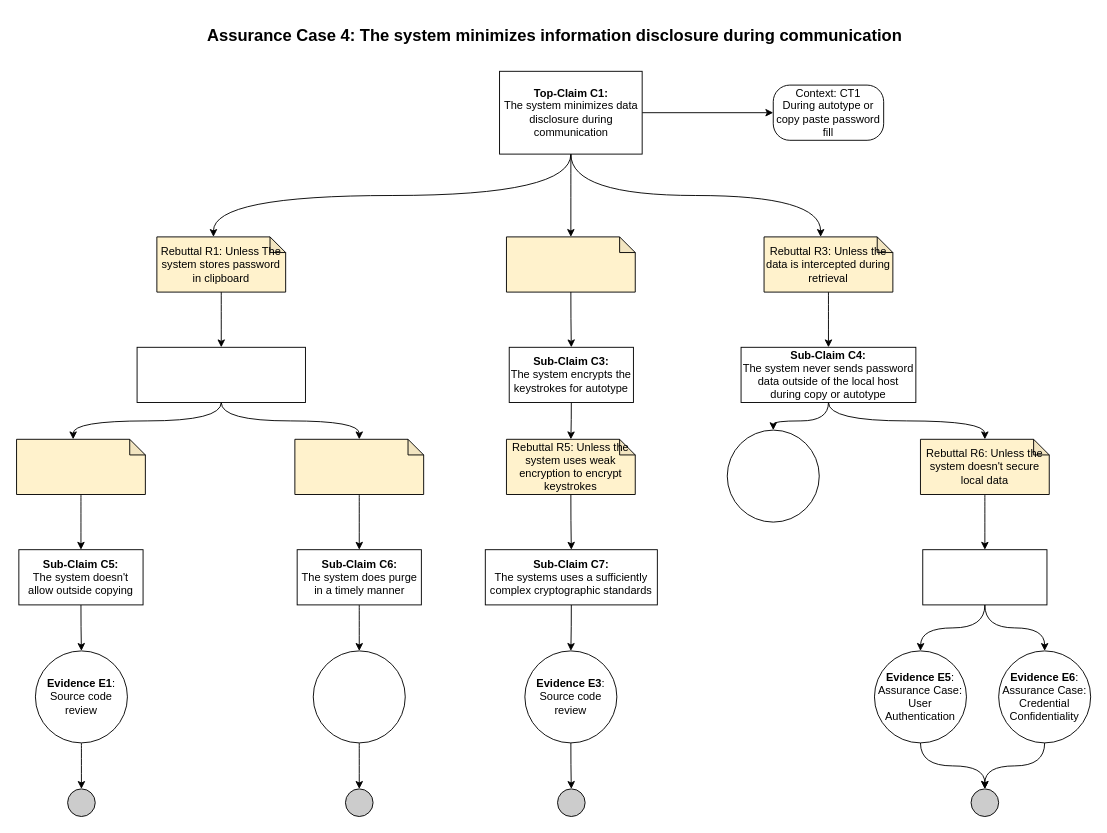
Some shapes in this 1107 by 833 pixel diagram are drawn without their labels. The centre of each missing label's shape, as x and y in pixels:
"Evidence E2 : Physical system test" belongs at (358,696).
"Evidence E4 : Source code review" belongs at (772,475).
"Rebuttal R2: Unless there is a keylogger present" belongs at (570,264).
"Rebuttal R4: Unless copy is not seen by system" belongs at (80,466).
"Rebuttal R5: Unless the system doesn't purge the clipboard in timely manner" belongs at (359,466).
"Sub-Claim C2: The system purges clipboard contents" belongs at (220,374).
"Sub-Claim C8: The system does properly secure data at rest" belongs at (984,577).
